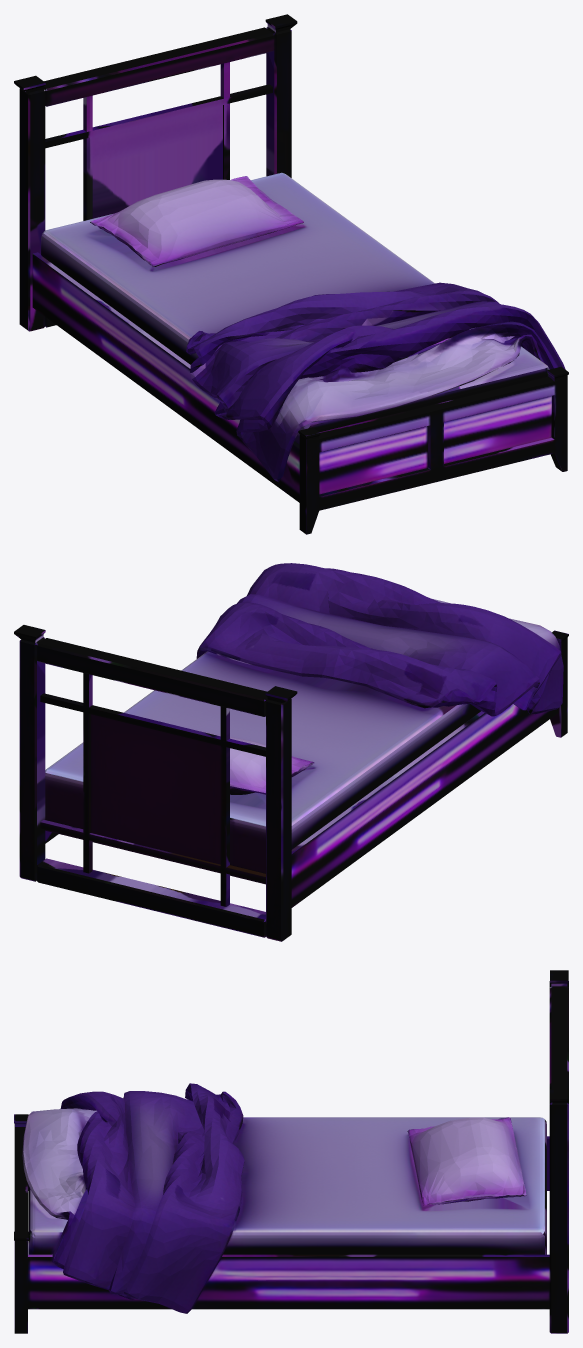
The model's file is edited_mesh.glb.
3 views of the same model, one above another, from view 1: azimuth 30°, elevation 25°; view 2: azimuth 150°, elevation 25°; view 3: azimuth 270°, elevation 25° (orthographic). The views are drawn at different scales.
Visible parts, largest first — view 1: solid_001_wire; view 2: solid_001_wire; view 3: solid_001_wire.
Boxes of the visible parts, x1,y1,x2,y2 form: solid_001_wire: [14, 14, 568, 534]; solid_001_wire: [14, 563, 568, 941]; solid_001_wire: [14, 970, 568, 1333].
Bounding box in the file's own units: 1.29 × 0.9447 × 2.
Materials: 1 (1 with a texture image).
